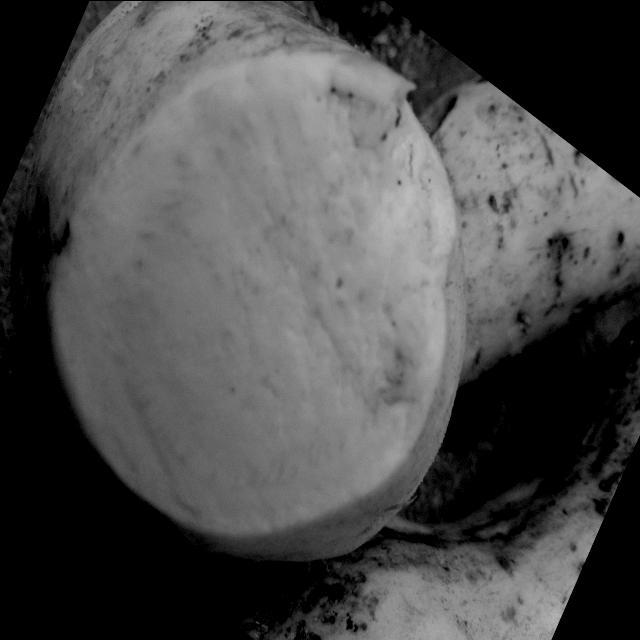Healthy Sweet Potato: (52, 52, 455, 535)
